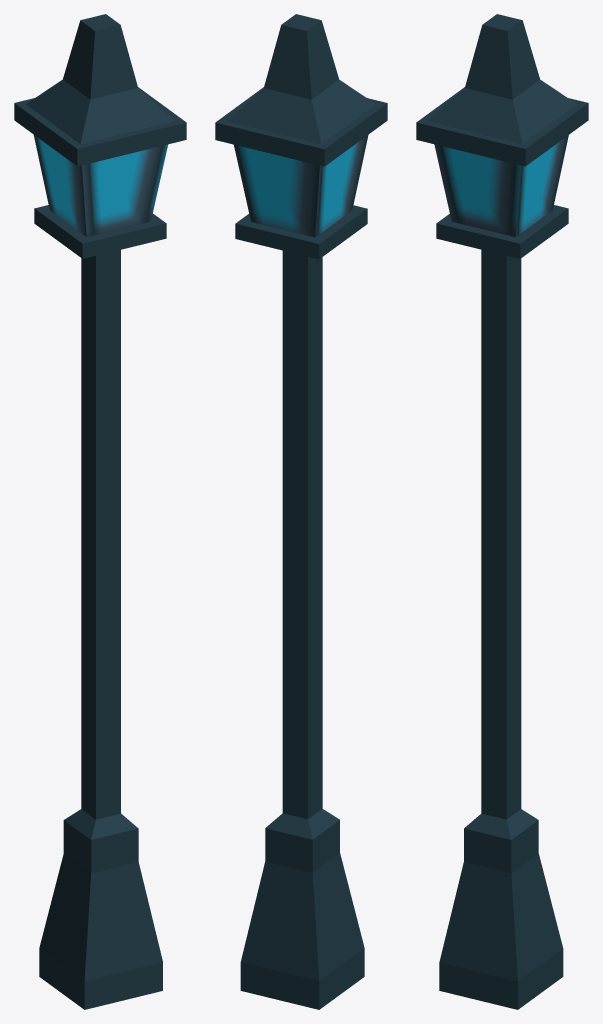
File: PosteDeLuz.fbx
The picture shows the model from 3 angles, left to right: view 1: azimuth 30°, elevation 25°; view 2: azimuth 150°, elevation 25°; view 3: azimuth 330°, elevation 25°; orthographic projection.
Visible parts, largest first — view 1: PosteDeLuz; view 2: PosteDeLuz; view 3: PosteDeLuz.
Boxes of the visible parts, x1,y1,x2,y2 form: PosteDeLuz: [14, 14, 186, 1009]; PosteDeLuz: [215, 14, 387, 1009]; PosteDeLuz: [416, 14, 588, 1009].
Bounding box in the file's own units: 42.97 × 42.97 × 361.
